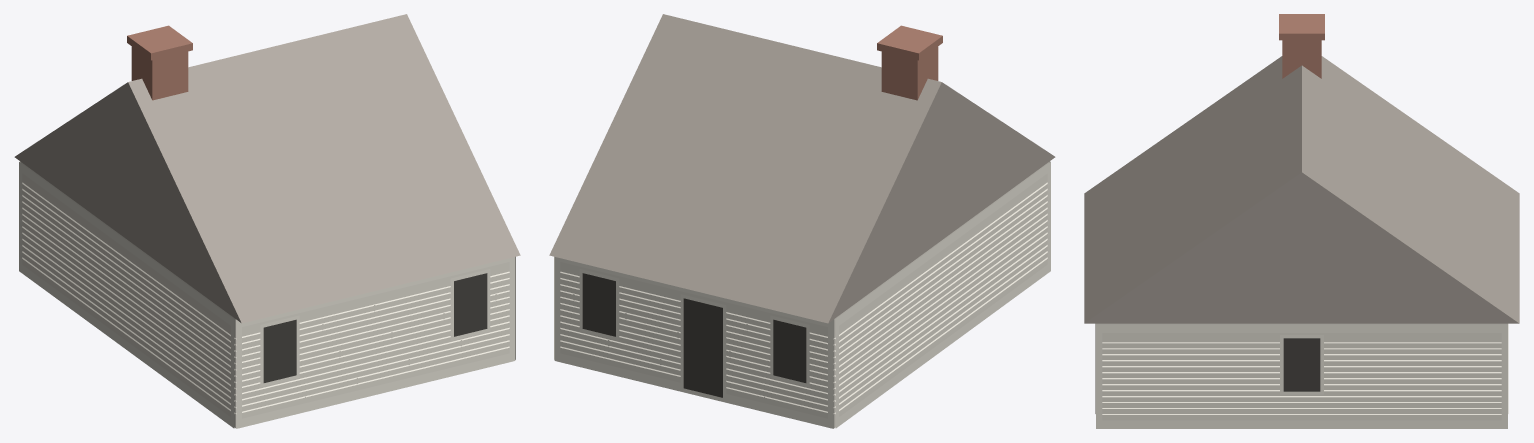
The model's file is recon_1835_blk_randolph_dearborn_d4_03__inferred_1835.glb.
3 renders of one model, left to right at view 1: azimuth 30°, elevation 25°; view 2: azimuth 150°, elevation 25°; view 3: azimuth 270°, elevation 25°, orthographic. The views are drawn at different scales.
Visible parts, largest first — view 1: recon_1835_blk_randolph_dearborn_d4_03__inferred_1835; view 2: recon_1835_blk_randolph_dearborn_d4_03__inferred_1835; view 3: recon_1835_blk_randolph_dearborn_d4_03__inferred_1835.
Part boxes in pixels (<box>): recon_1835_blk_randolph_dearborn_d4_03__inferred_1835: <box>14,14,520,428</box>; recon_1835_blk_randolph_dearborn_d4_03__inferred_1835: <box>549,14,1055,428</box>; recon_1835_blk_randolph_dearborn_d4_03__inferred_1835: <box>1084,14,1519,428</box>.
Bounding box in the file's own units: 6.63 × 6.78 × 9.25.
